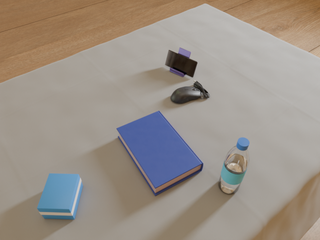book: (117, 111, 203, 196)
bottle: (218, 138, 249, 194)
box: (37, 174, 83, 219)
mouse: (171, 81, 210, 103)
phone: (165, 50, 197, 77)
